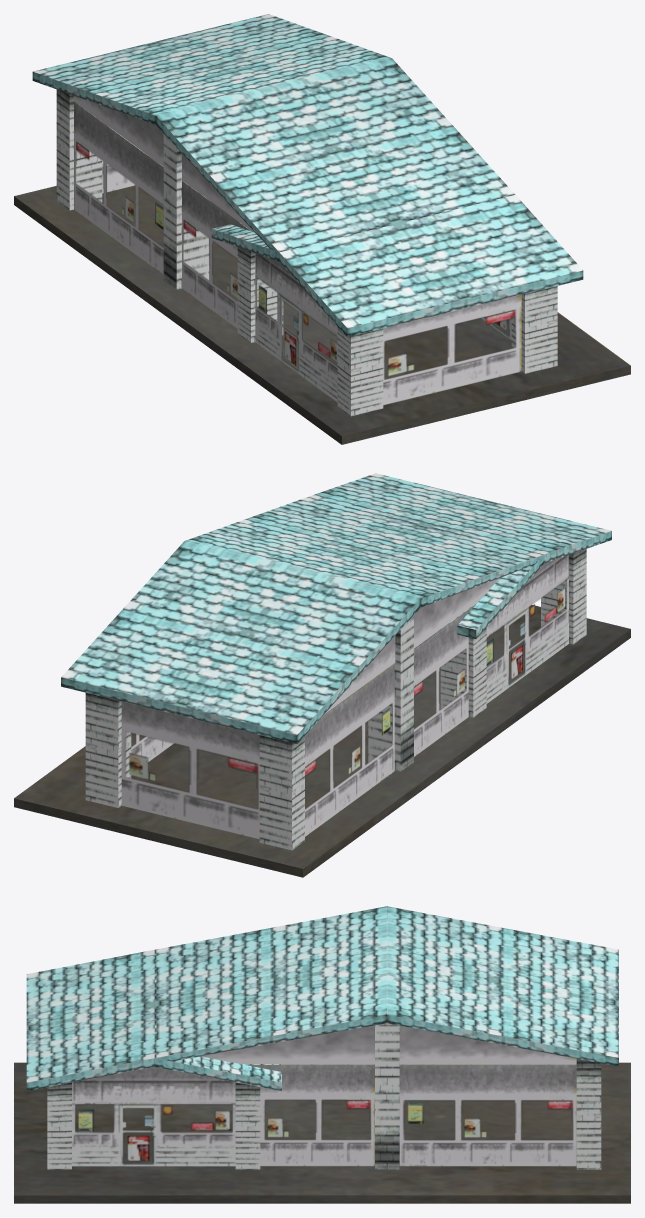
Rendered from Civilian - Civilian Building - Gas Mart - CBGasMart.glb.
3 renders of one model, top to bottom at view 1: azimuth 30°, elevation 25°; view 2: azimuth 150°, elevation 25°; view 3: azimuth 270°, elevation 25°, orthographic. The views are drawn at different scales.
Visible parts, largest first — view 1: CBGASMART; view 2: CBGASMART; view 3: CBGASMART.
Part boxes in pixels (x1,y1,x2,y2): CBGASMART: (14, 14, 630, 444); CBGASMART: (14, 473, 630, 877); CBGASMART: (14, 906, 630, 1203).
Bounding box in the file's own units: 38.12 × 22.82 × 74.86.
1 material, 1 textured.
